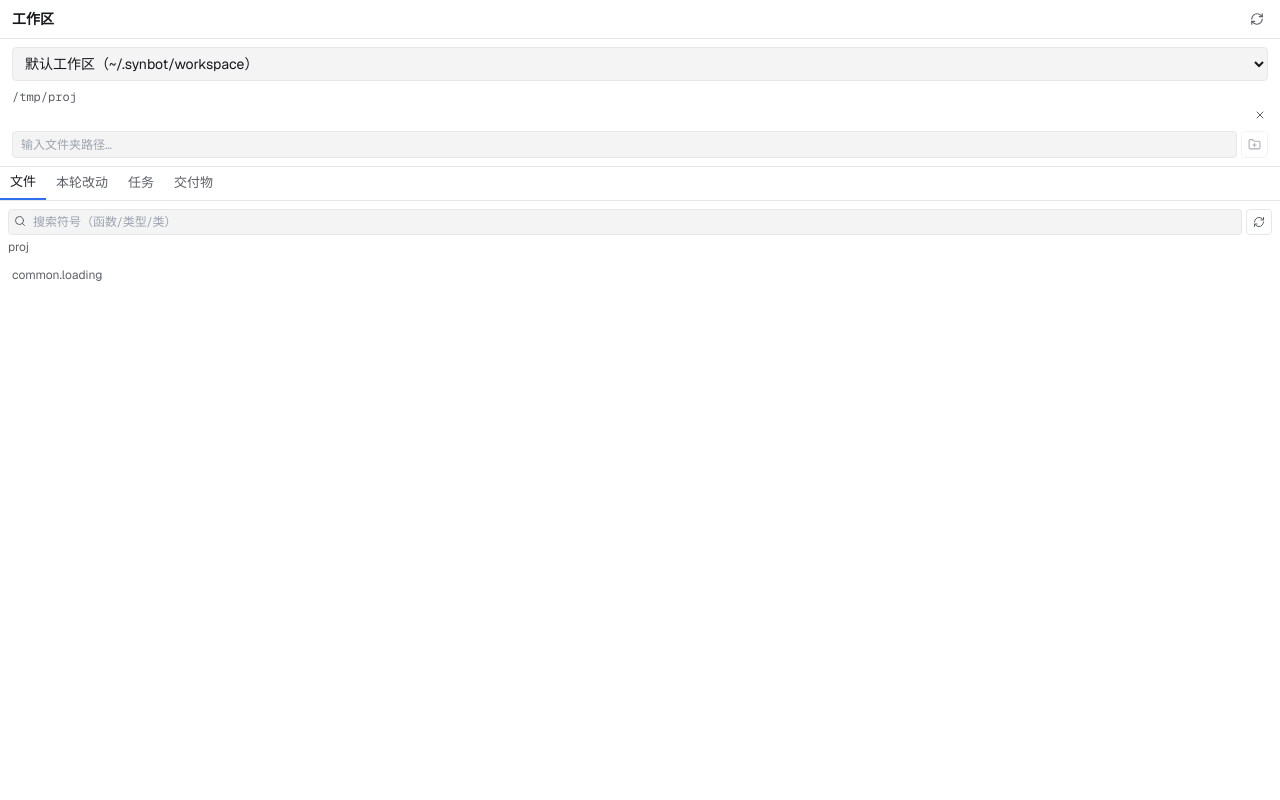
ProjectPanel checkpoint view › searches symbols and jumps the preview to the hit line
Type "run_turn" into the field with placeholder "搜索符号（函数/类型/类）". click: coordinates (625, 222)
box: [8,209,1242,235]
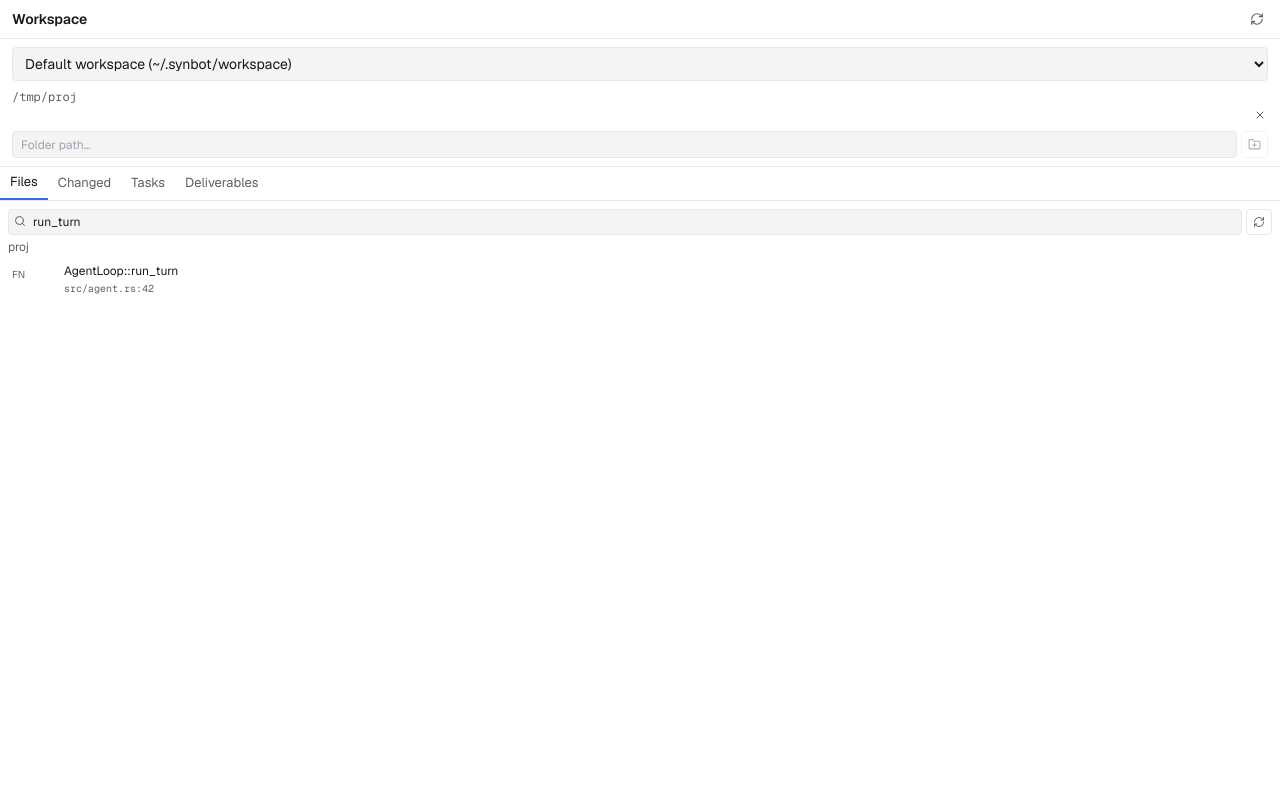
Click the button "fn AgentLoop::run_turn src/agent.rs:42". click: coordinates (121, 271)
box: [0,259,1279,303]
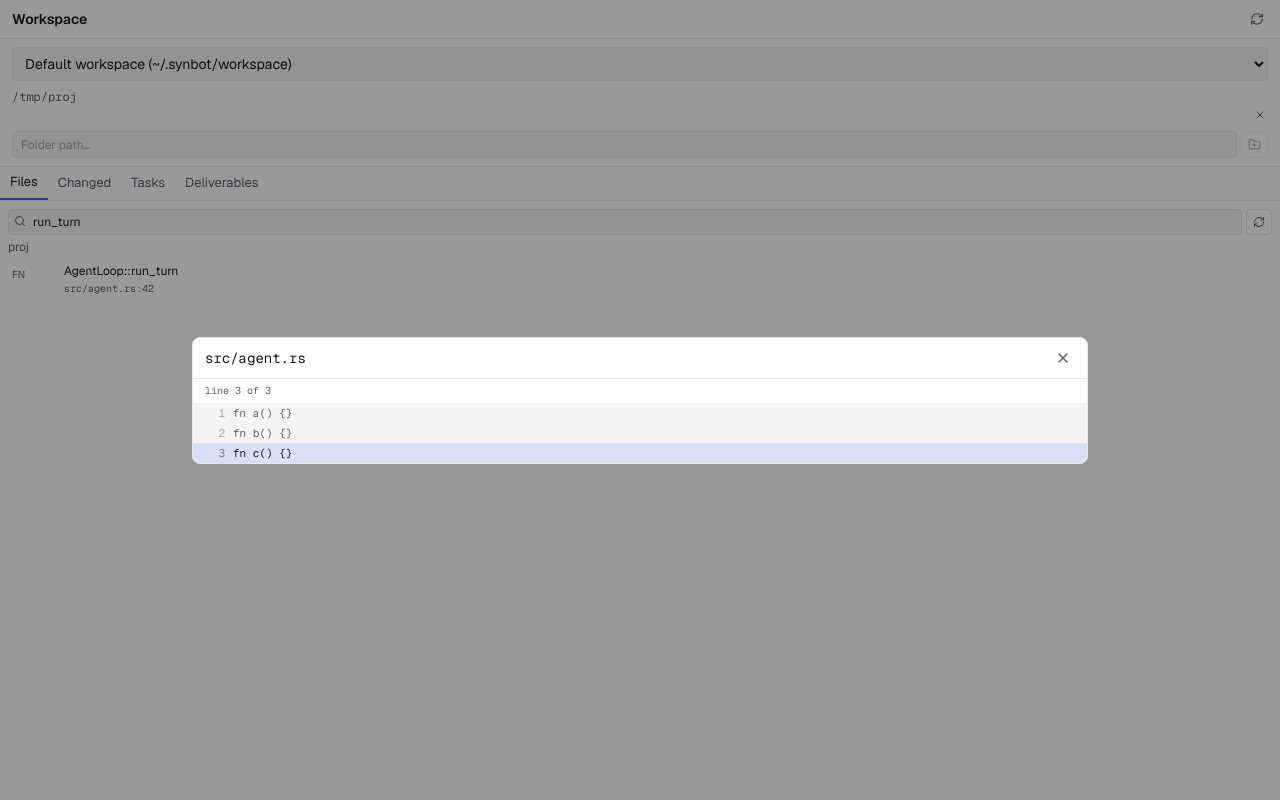
Check: the text "line 3 of 3" is shown, box [193,378,1087,402]
